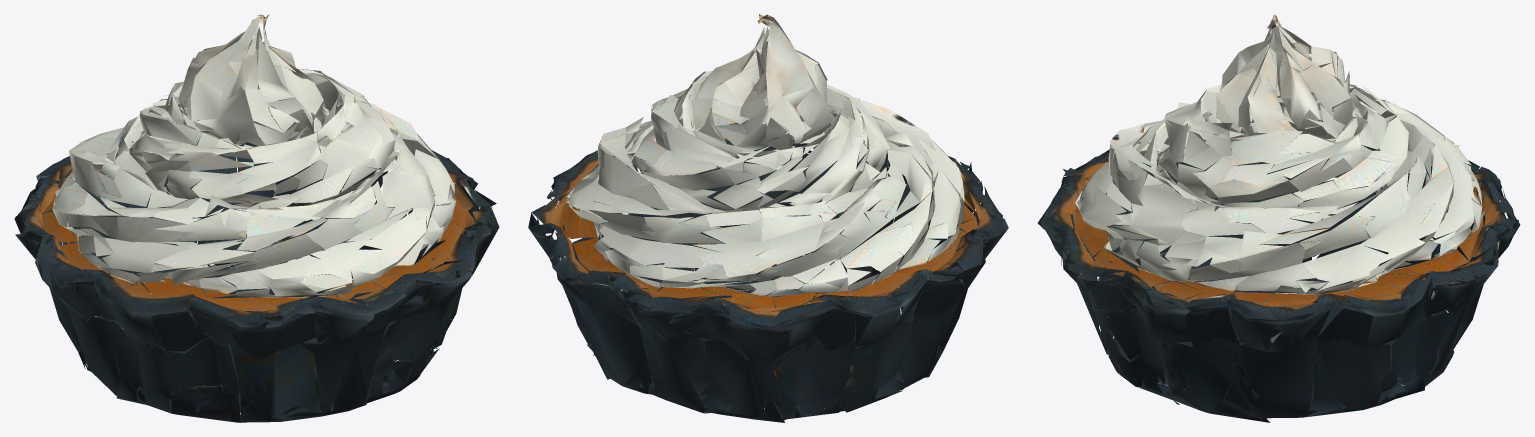
The model's file is pie.glb.
3 renders of one model, left to right at view 1: azimuth 30°, elevation 25°; view 2: azimuth 150°, elevation 25°; view 3: azimuth 270°, elevation 25°, orthographic.
Visible parts, largest first — view 1: Mesh_0; view 2: Mesh_0; view 3: Mesh_0.
Part boxes in pixels (x1,y1,x2,y2): Mesh_0: (14,14,499,422); Mesh_0: (528,14,1008,422); Mesh_0: (1037,14,1520,422).
Bounding box in the file's own units: 0.42 × 0.329 × 0.4275.
1 material, 1 textured.
